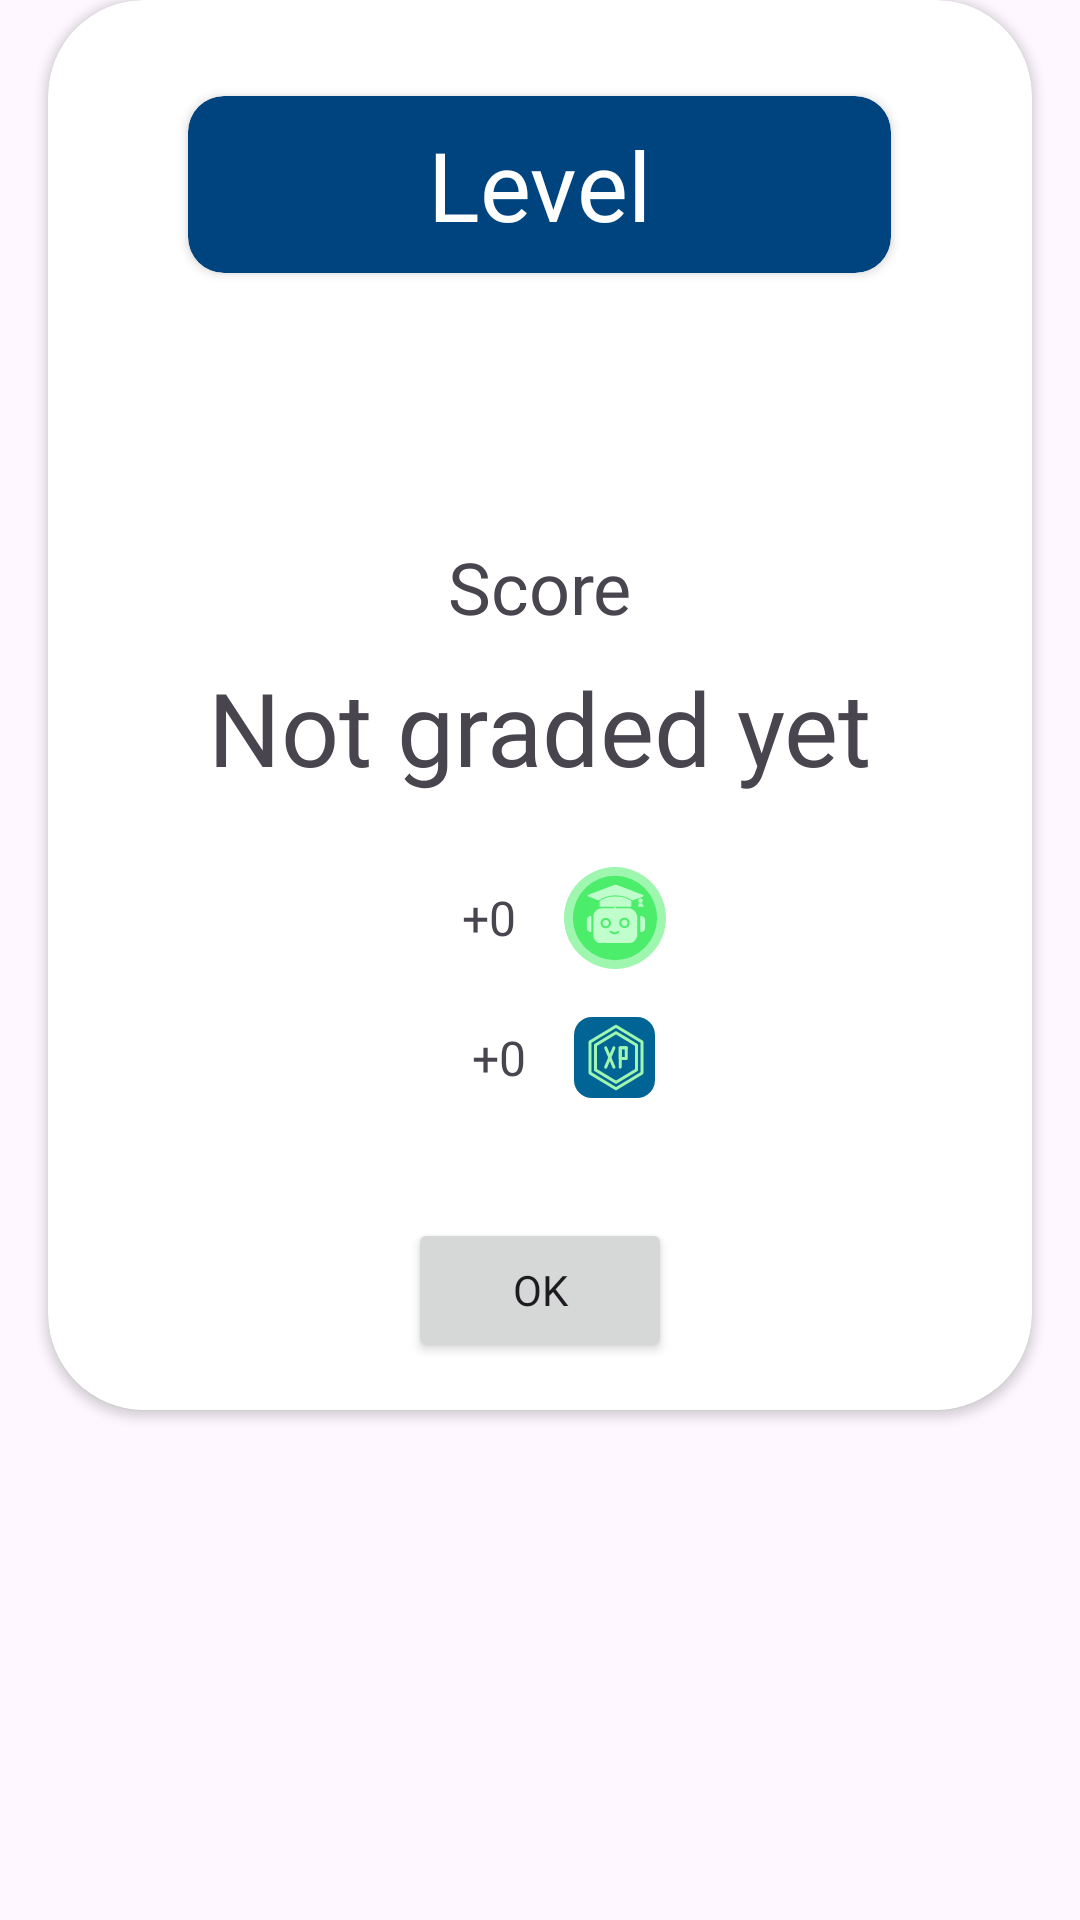

Where to tap for icons on this 1080px x 1920px app screen, as [x,y]:
edu coin: [615,918]
